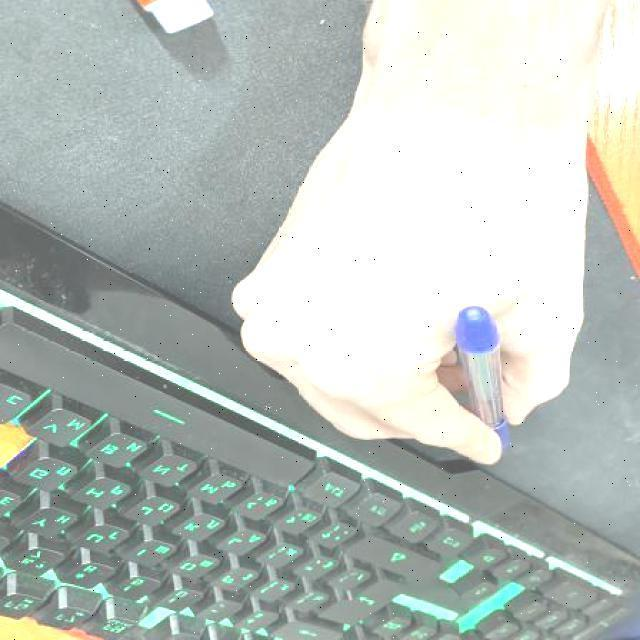pen: (454, 307, 511, 454)
